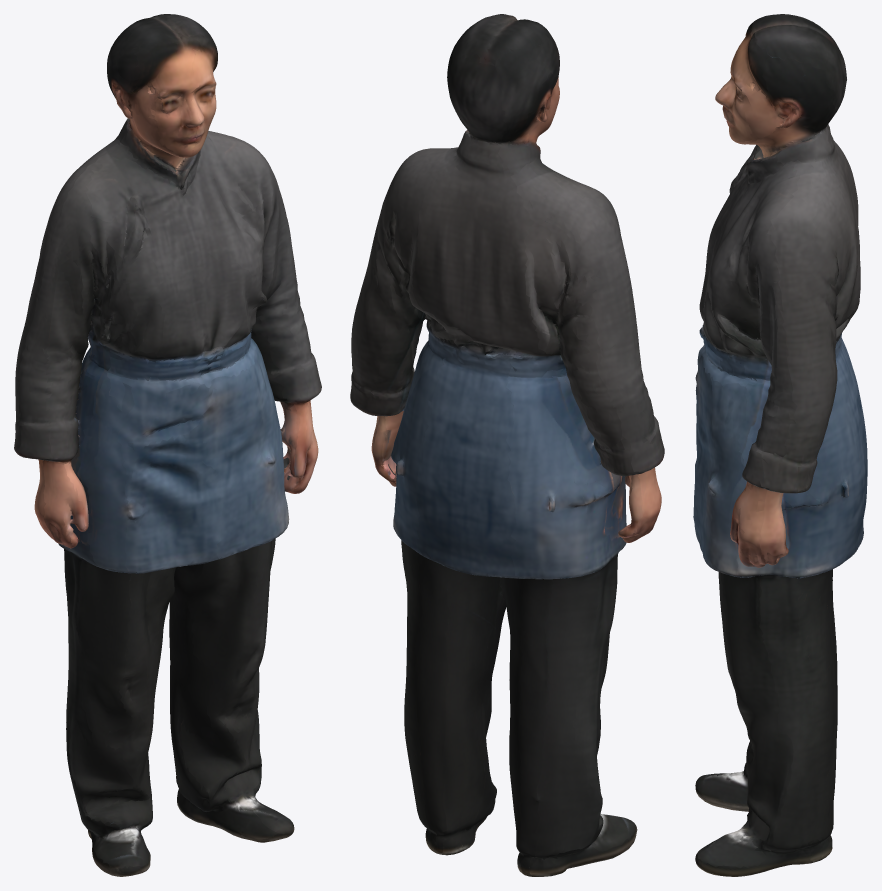
The model's file is villager_mid.glb.
3 renders of one model, left to right at view 1: azimuth 30°, elevation 25°; view 2: azimuth 150°, elevation 25°; view 3: azimuth 270°, elevation 25°, orthographic. The views are drawn at different scales.
Visible parts, largest first — view 1: geometry_0; view 2: geometry_0; view 3: geometry_0.
Part boxes in pixels (x1,y1,x2,y2): geometry_0: (14,14,321,876); geometry_0: (350,14,664,876); geometry_0: (693,14,867,876).
Bounding box in the file's own units: 0.6363 × 1.65 × 0.3209.
1 material, 1 textured.
